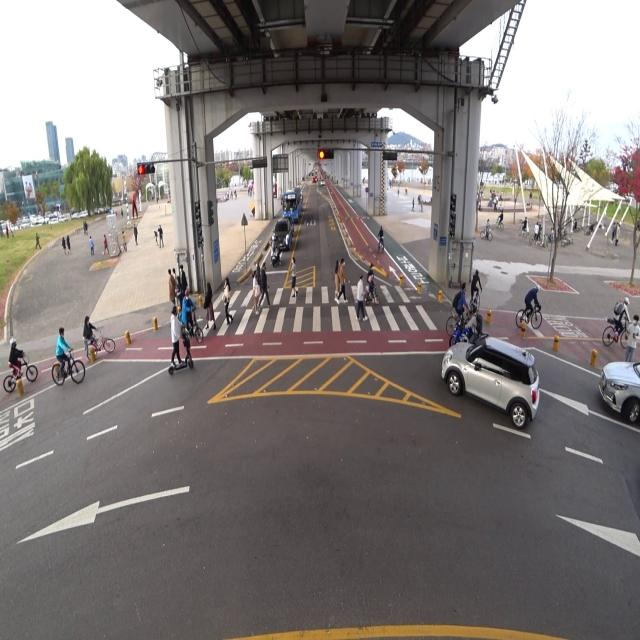Bus: (281, 186, 302, 223)
Car: (437, 330, 543, 434), (595, 349, 640, 430), (275, 214, 293, 253), (283, 213, 294, 231)
Motorcycle: (270, 233, 282, 268)
